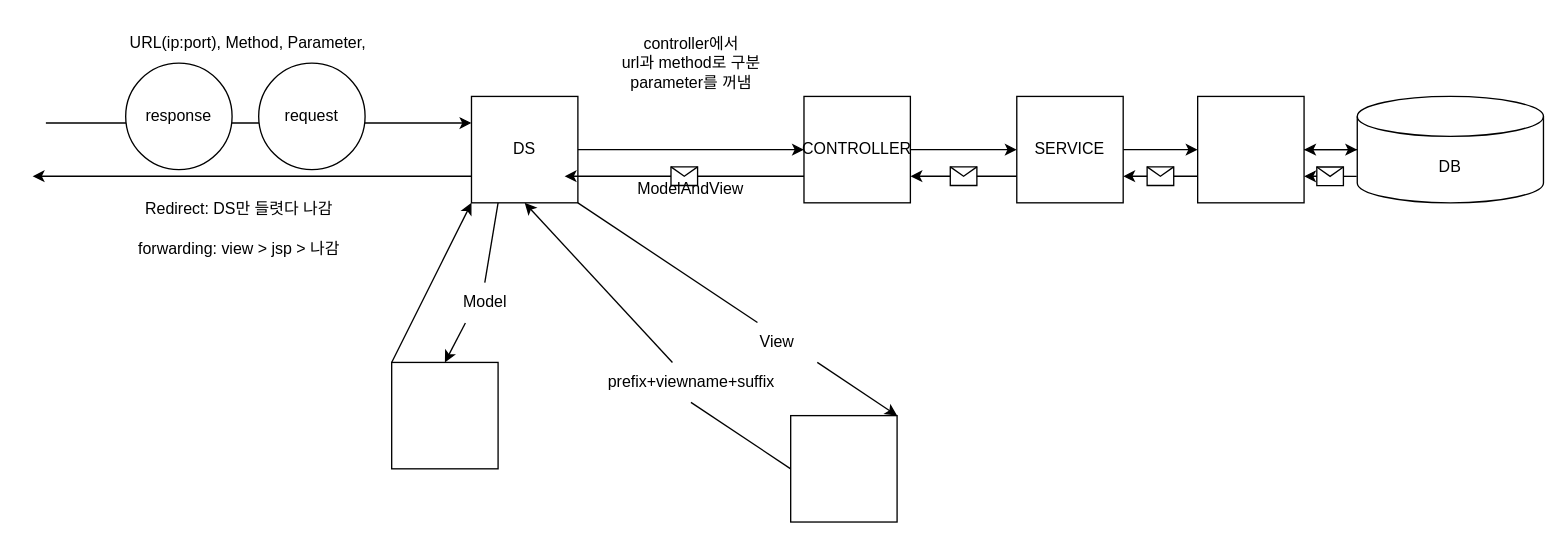
This 1567x545 diagram has some shape labels left out. Each missing label, with the centre of its shape:
"DAO" goes at pixel 1250 149.
"Interner Resourse View Resolver" goes at pixel 843 468.
"JSP" goes at pixel 444 415.
